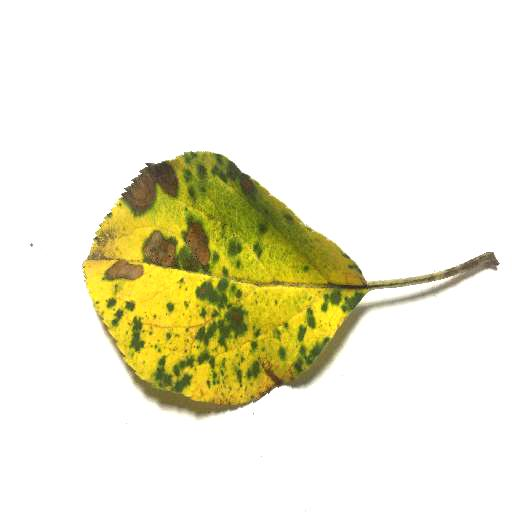Brown_Spot: (176, 226, 211, 270), (256, 356, 296, 390), (126, 176, 151, 208), (142, 240, 171, 266), (154, 170, 179, 198), (106, 262, 141, 279), (227, 178, 259, 196)
